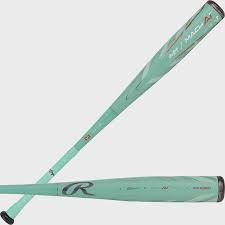baseball bat: (1, 1, 225, 223), (1, 174, 224, 203)
